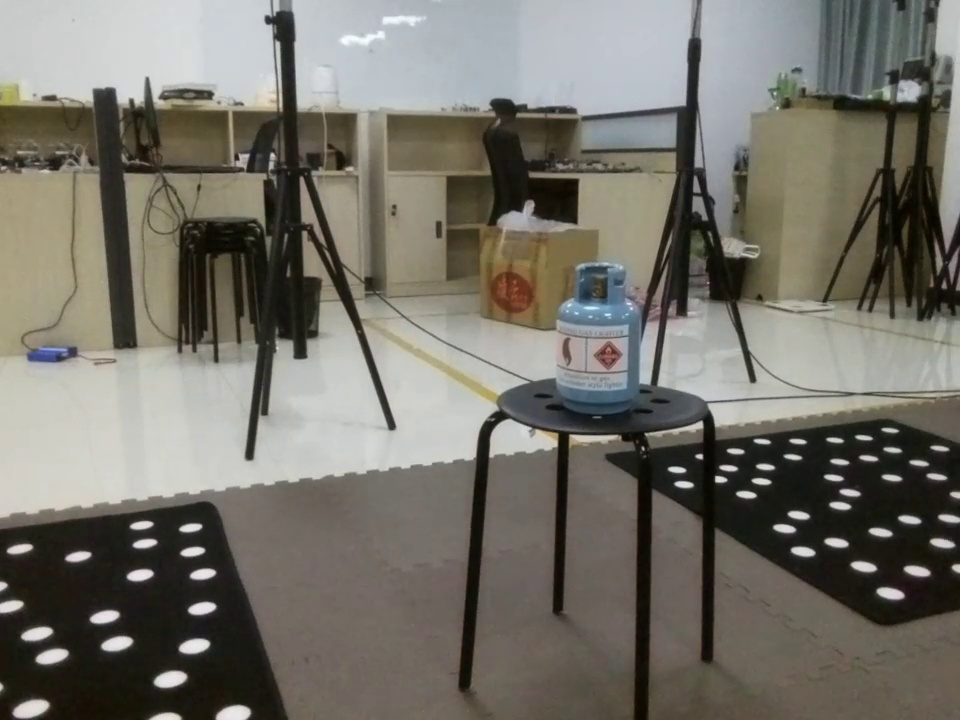gas tank: (554, 257, 645, 417)
